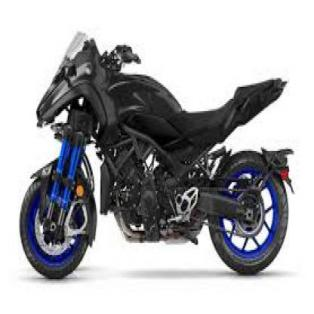Motocicleta: (20, 33, 292, 284)
